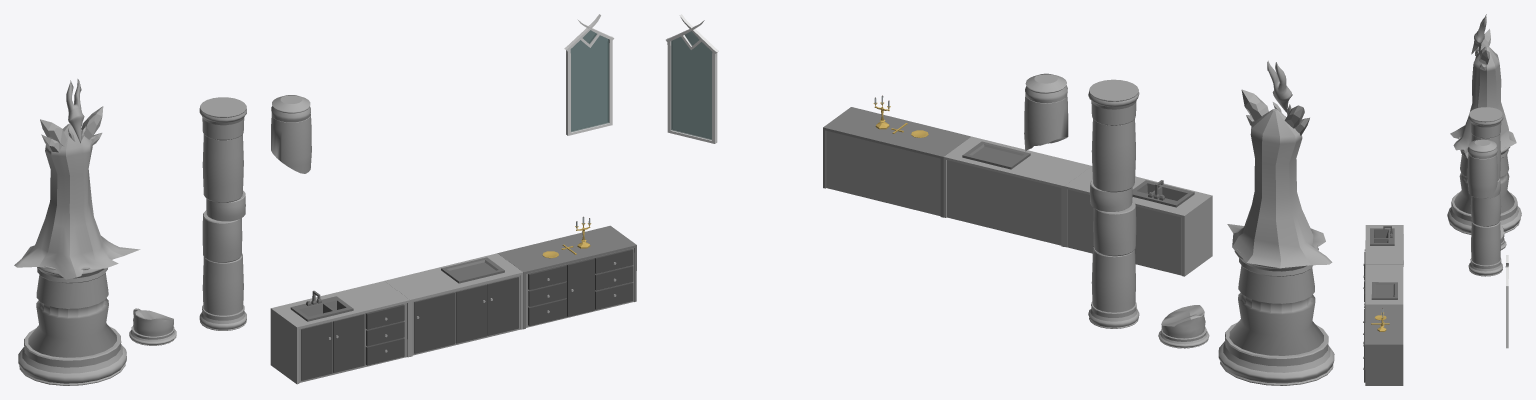
Rendered from Nuevas_Cosas.fbx.
3 renders of one model, left to right at view 1: azimuth 30°, elevation 25°; view 2: azimuth 150°, elevation 25°; view 3: azimuth 270°, elevation 25°, orthographic. The views are drawn at different scales.
Visible parts, largest first — view 1: polySurface1289, polySurface1245, polySurface279, polySurface1267, polySurface1277, pCube6, polySurface273, polySurface281; view 2: polySurface1289, polySurface279, polySurface1267, polySurface1277, polySurface1245, pCube6, polySurface273, polySurface281; view 3: polySurface1289, polySurface279, polySurface1277, polySurface273, polySurface1245, polySurface1267, pCube6.
Boxes of the visible parts, box(x1,y1,x2,y2) form: polySurface1289: box(14, 79, 140, 385); polySurface1245: box(270, 281, 410, 384); polySurface279: box(199, 97, 246, 330); polySurface1267: box(384, 253, 523, 356); polySurface1277: box(497, 225, 636, 329); pCube6: box(564, 14, 614, 135); polySurface273: box(271, 95, 311, 173); polySurface281: box(129, 308, 176, 345); polySurface1289: box(1218, 60, 1334, 385); polySurface279: box(1088, 79, 1139, 328); polySurface1267: box(943, 136, 1091, 246); polySurface1277: box(823, 107, 970, 217); polySurface1245: box(1064, 166, 1212, 276); pCube6: box(666, 14, 718, 143); polySurface273: box(1024, 73, 1068, 151); polySurface281: box(1158, 305, 1209, 348); polySurface1289: box(1447, 14, 1521, 234); polySurface279: box(1468, 107, 1503, 276); polySurface1277: box(1363, 305, 1403, 385); polySurface273: box(1467, 139, 1497, 198); polySurface1245: box(1363, 225, 1403, 301); polySurface1267: box(1364, 265, 1403, 308); pCube6: box(1505, 255, 1508, 348).
Bounding box in the file's own units: 1079 × 479 × 335.
